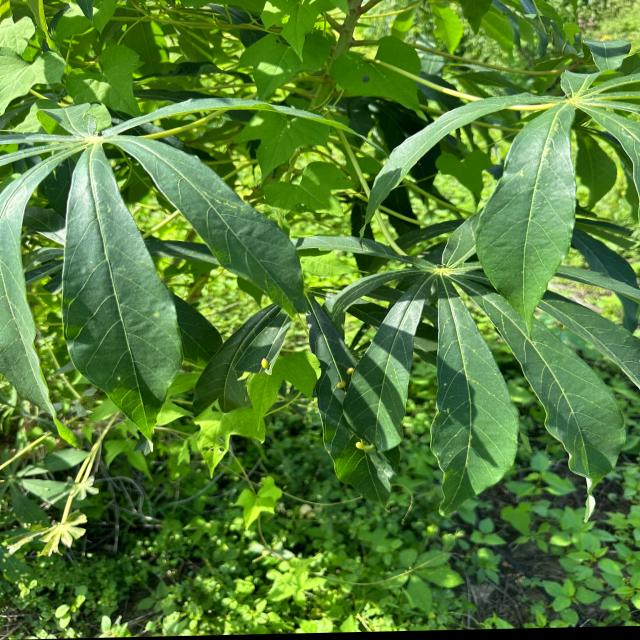Maleza: (17, 415, 309, 625), (198, 520, 637, 637), (0, 0, 545, 92), (251, 41, 360, 209)
Mosca: (328, 355, 367, 400), (353, 427, 392, 457), (255, 349, 276, 375)
